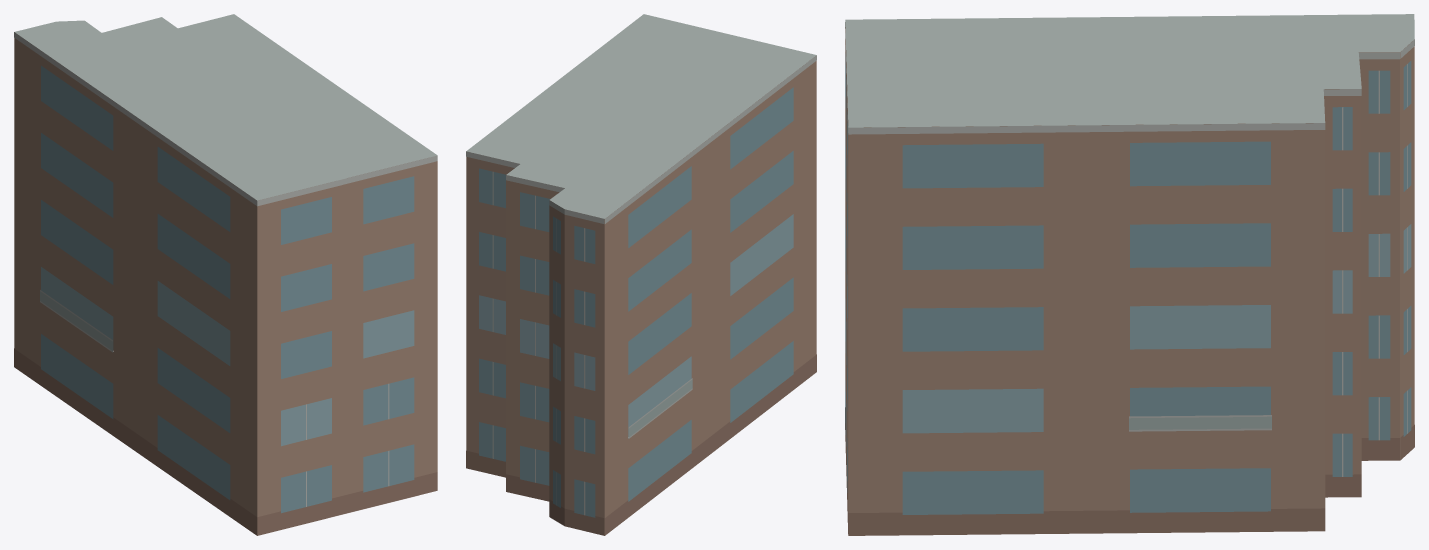
The model's file is survey-upis-32535194.glb.
The picture shows the model from 3 angles, left to right: view 1: azimuth 30°, elevation 25°; view 2: azimuth 150°, elevation 25°; view 3: azimuth 270°, elevation 25°; orthographic projection. The views are drawn at different scales.
Parts seen in each view (by area): view 1: survey-upis-32535194.tmp; view 2: survey-upis-32535194.tmp; view 3: survey-upis-32535194.tmp.
Boxes of the visible parts, x1,y1,x2,y2 form: survey-upis-32535194.tmp: (14,14,437,535); survey-upis-32535194.tmp: (466,14,816,535); survey-upis-32535194.tmp: (845,14,1414,535).
Size of the model in its own units: 8.6 by 14.4 by 18.21.
